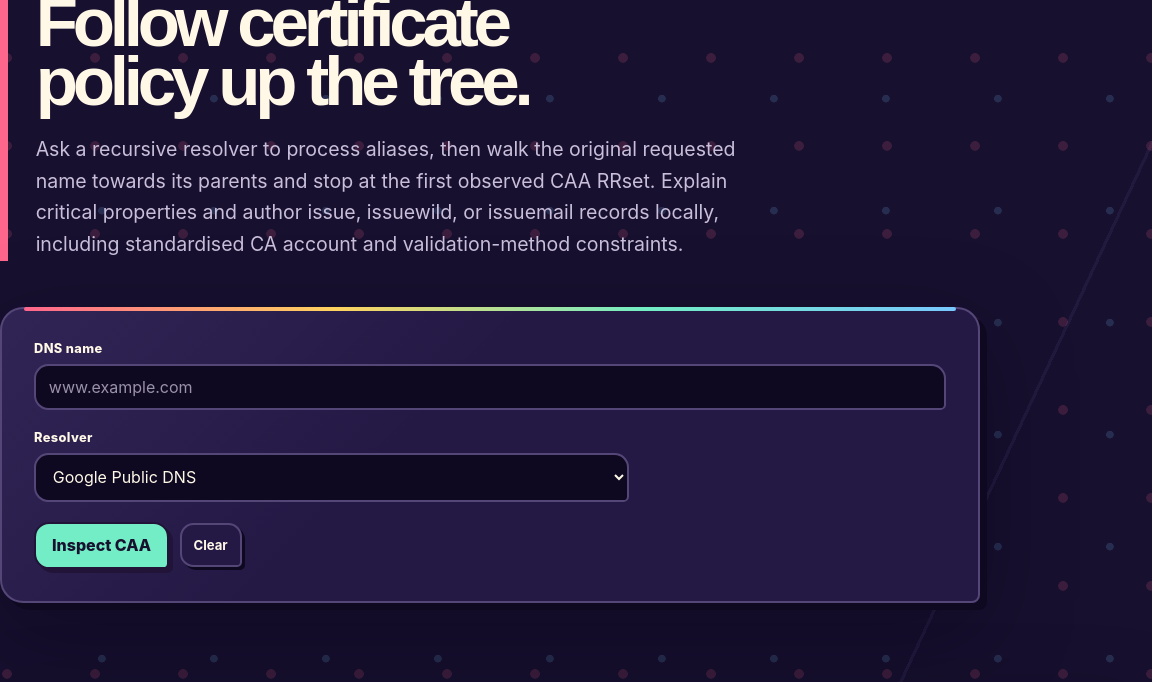
CaaPage › announces partial DNS evidence without treating it as a complete result
In the field labelled "DNS name": (490, 387) 34,364 -> 946,410, type "example.test"
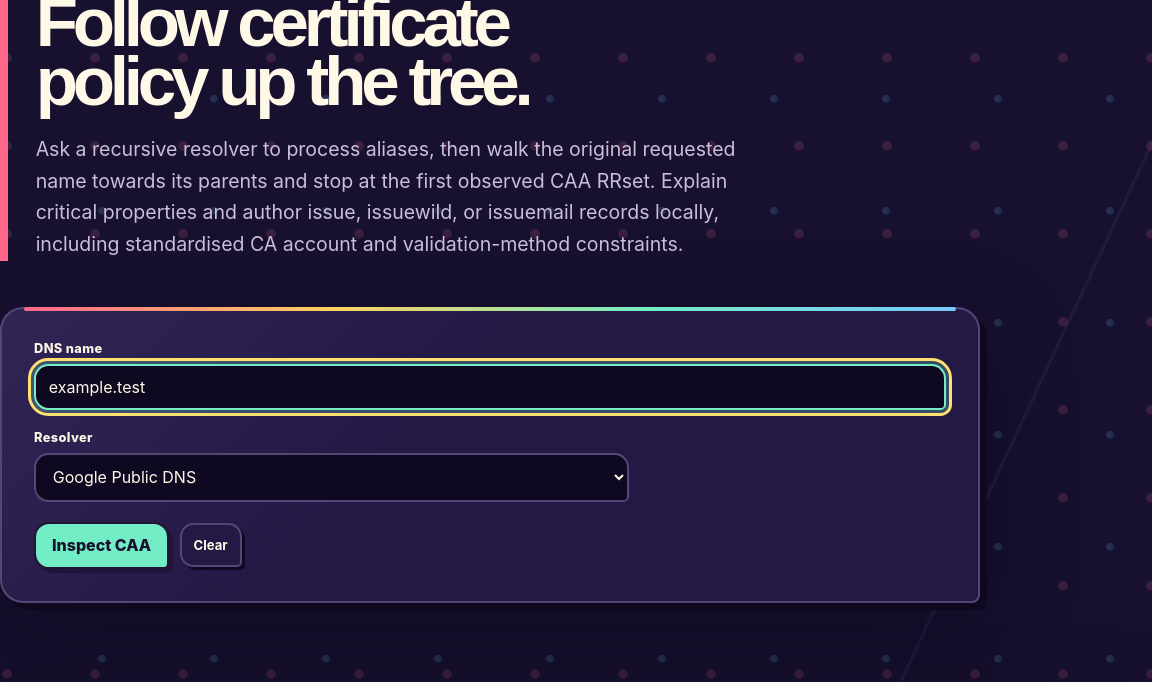
Click the button "Inspect CAA": click(102, 545) 34,522 -> 169,568
(page scrolled)
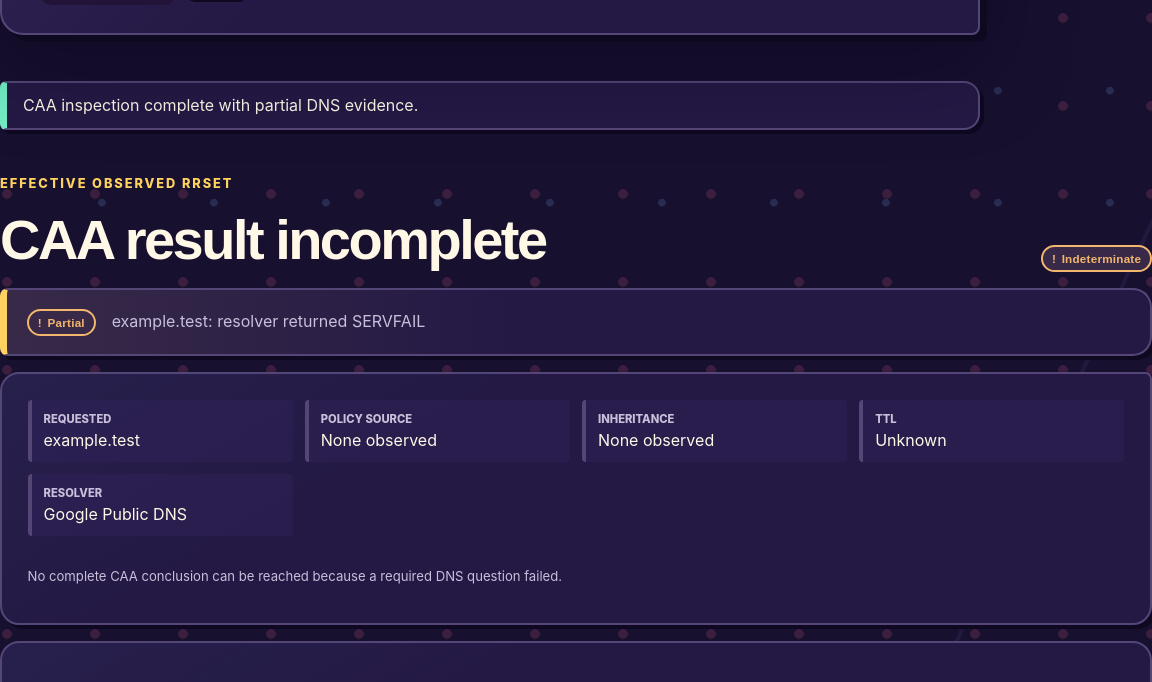
Now the message named "CAA run status" reads "CAA inspection complete with partial DNS evidence.", box 23,95 -> 418,115
Now the text "Partial" is shown, box 48,316 -> 85,329
